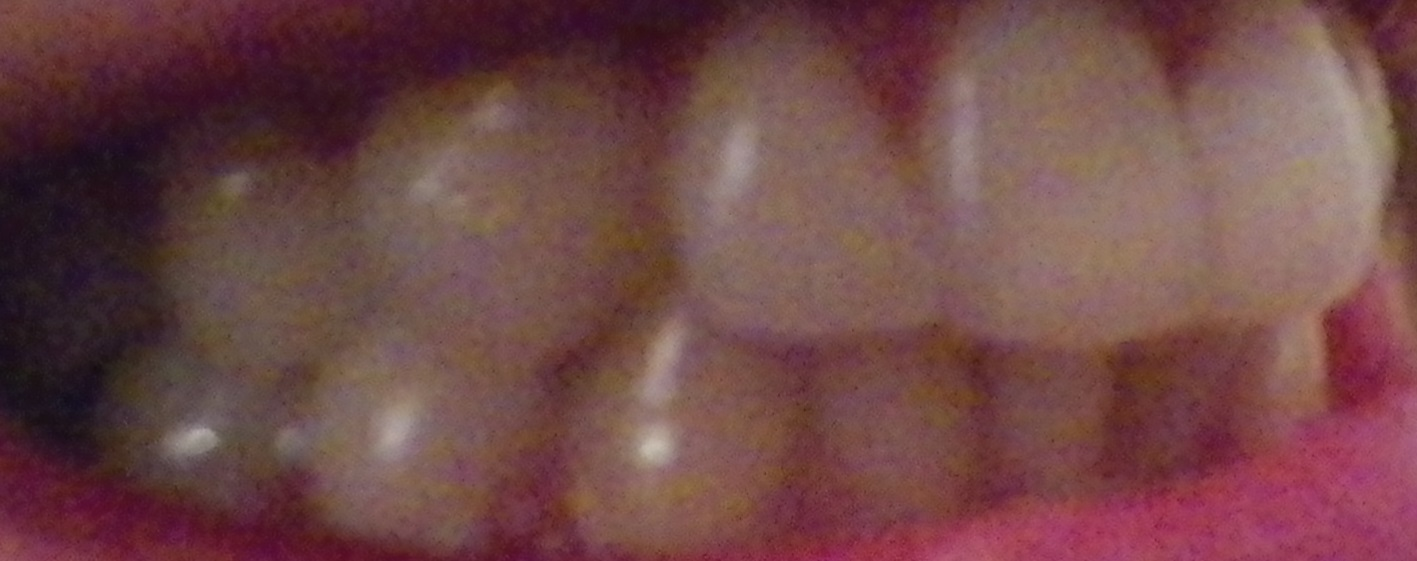boca: (46, 27, 1395, 534)
